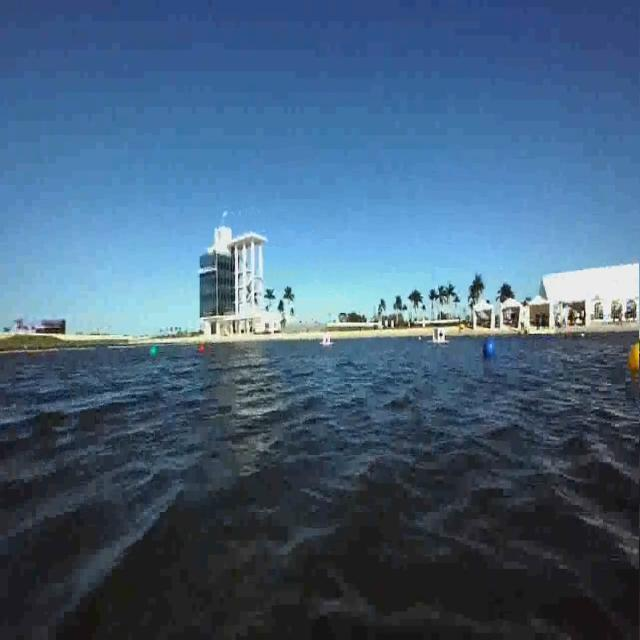blue-buoy: (484, 343, 499, 365)
yellow-buoy: (618, 338, 640, 377)
